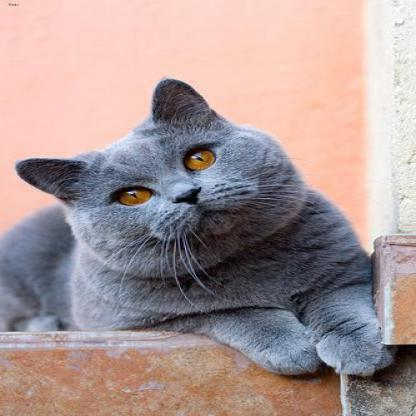cat: (0, 78, 390, 376)
